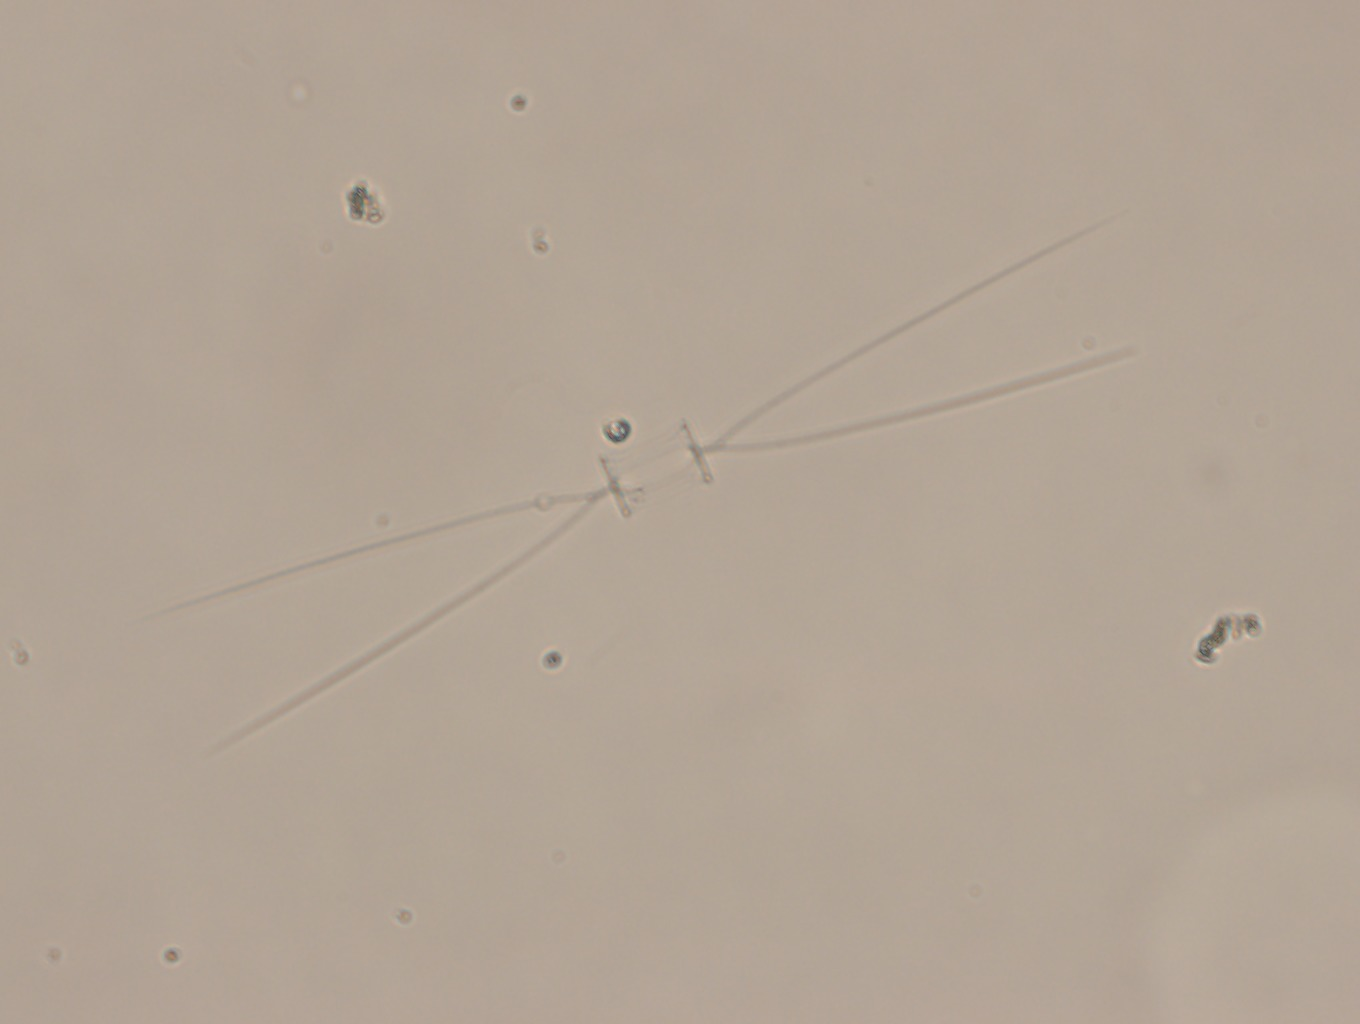chaetoceros: (171, 195, 1154, 749)
